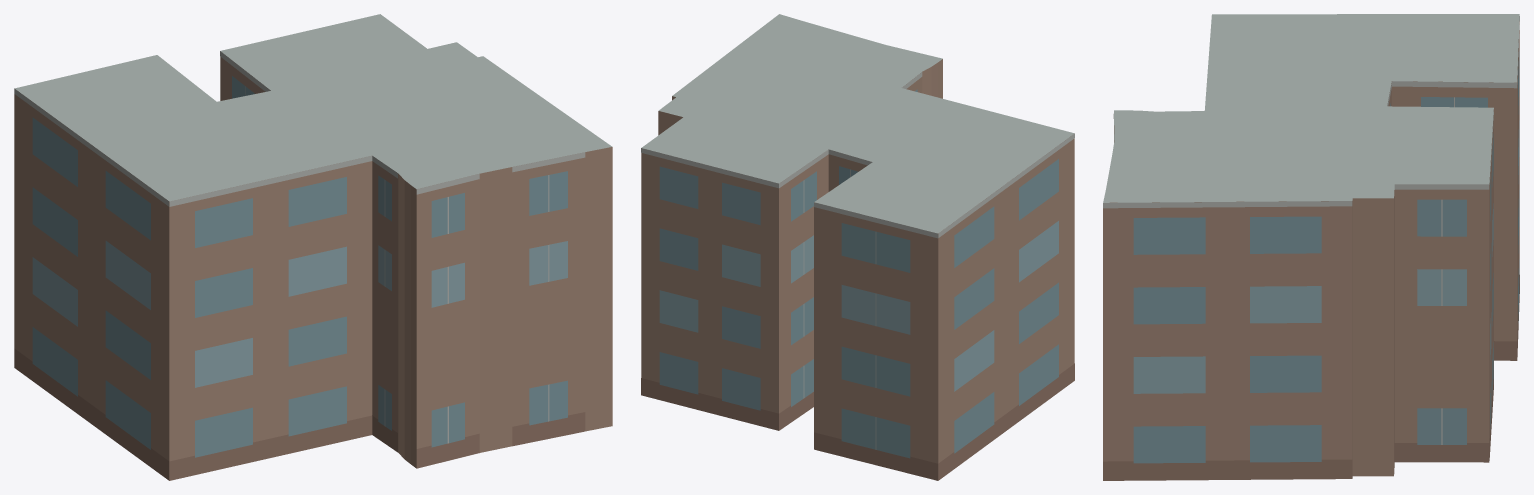
Rendered from survey-upis-32460670.glb.
3 views of the same model, side by side, from view 1: azimuth 30°, elevation 25°; view 2: azimuth 150°, elevation 25°; view 3: azimuth 270°, elevation 25° (orthographic). The views are drawn at different scales.
Parts seen in each view (by area): view 1: survey-upis-32460670.tmp; view 2: survey-upis-32460670.tmp; view 3: survey-upis-32460670.tmp.
Part boxes in pixels (box(x1,y1,x2,y2)): survey-upis-32460670.tmp: box(14, 14, 612, 480); survey-upis-32460670.tmp: box(641, 14, 1074, 480); survey-upis-32460670.tmp: box(1103, 14, 1519, 480).
Size of the model in its own units: 18.22 by 12.5 by 16.98.
